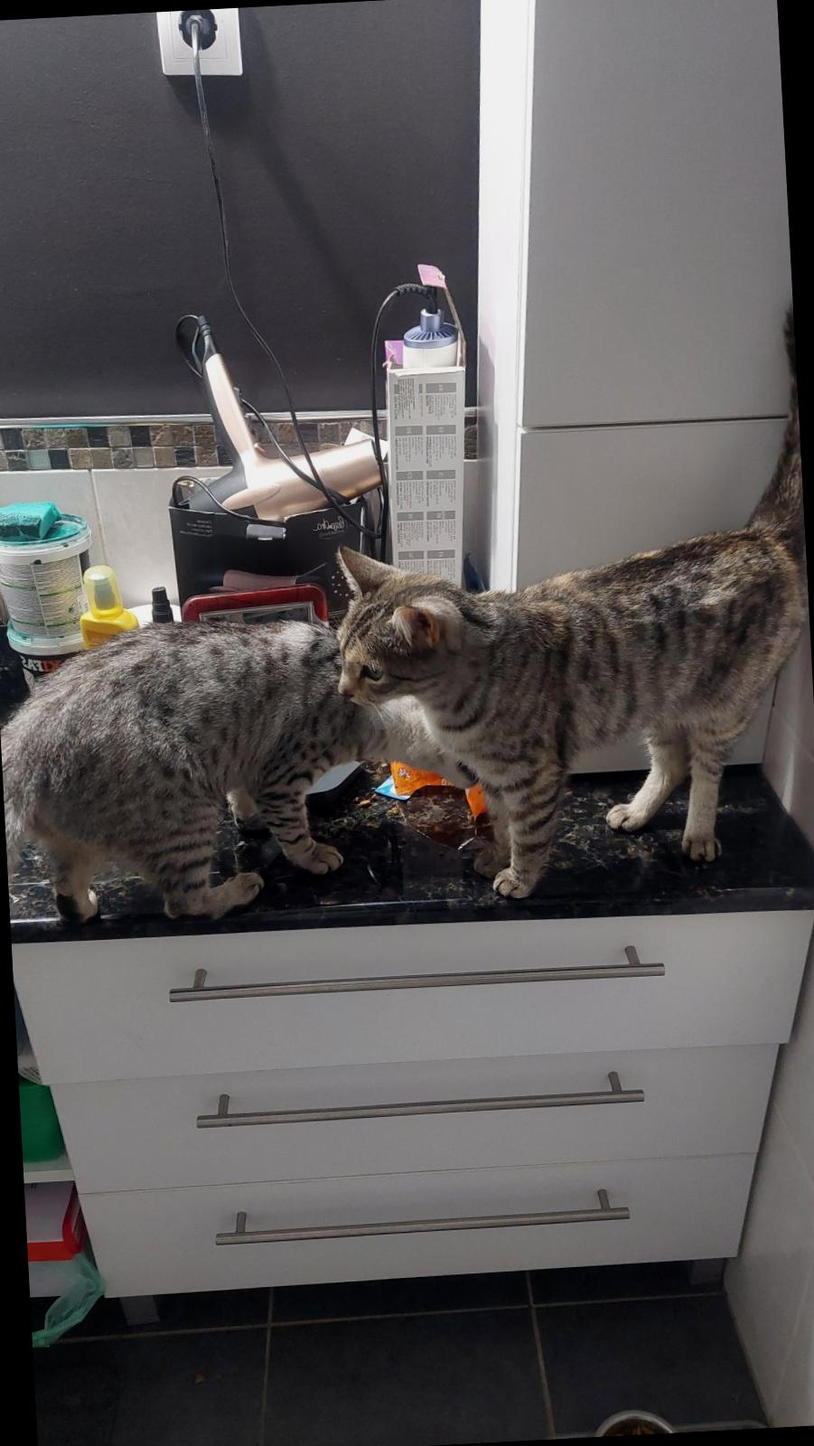macka: (324, 518, 814, 909), (0, 607, 488, 936)
